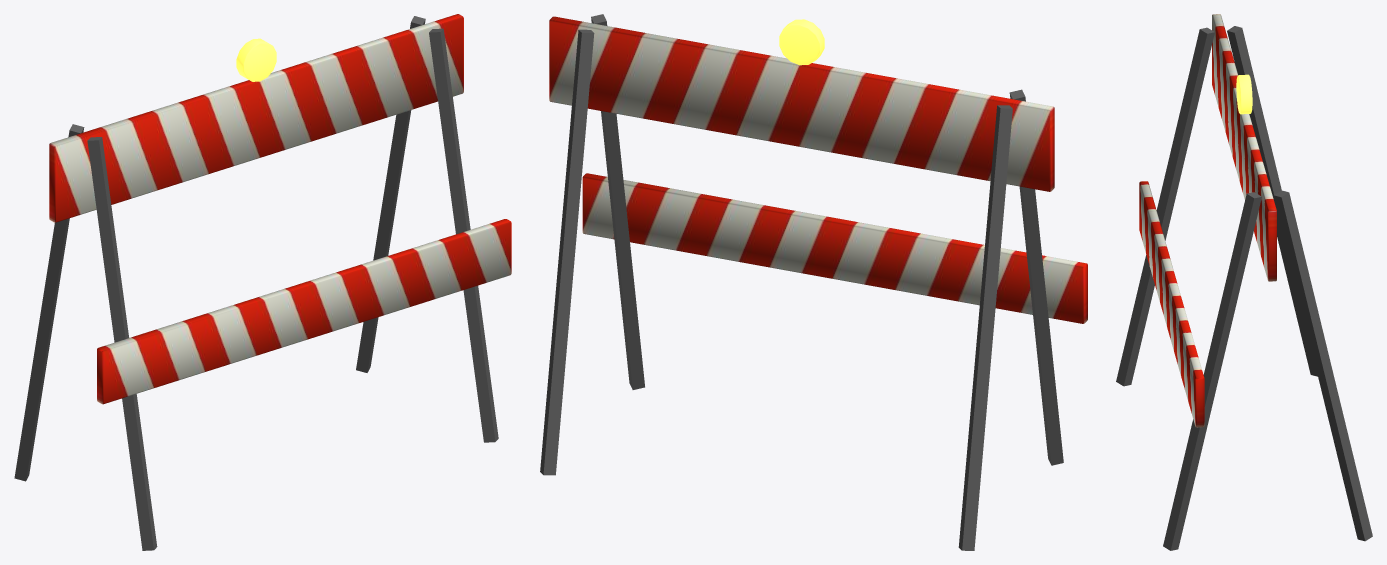
Rendered from sawhorse_1.glb.
The picture shows the model from 3 angles, left to right: view 1: azimuth 30°, elevation 25°; view 2: azimuth 150°, elevation 25°; view 3: azimuth 270°, elevation 25°; orthographic projection. The views are drawn at different scales.
Visible parts, largest first — view 1: Barricade stripes, Painted steel, Barricade lamp; view 2: Barricade stripes, Painted steel, Barricade lamp; view 3: Painted steel, Barricade stripes, Barricade lamp.
Part boxes in pixels (x1=…): Barricade stripes: x1=49, y1=14, x2=511, y2=404; Painted steel: x1=14, y1=16, x2=498, y2=550; Barricade lamp: x1=236, y1=38, x2=276, y2=81; Barricade stripes: x1=549, y1=16, x2=1087, y2=323; Painted steel: x1=540, y1=14, x2=1063, y2=550; Barricade lamp: x1=779, y1=19, x2=824, y2=65; Painted steel: x1=1116, y1=26, x2=1372, y2=550; Barricade stripes: x1=1139, y1=14, x2=1276, y2=427; Barricade lamp: x1=1236, y1=74, x2=1252, y2=114.
Size of the model in its own units: 1.22 by 1.08 by 0.6552.
Materials: 3 (1 with a texture image).
